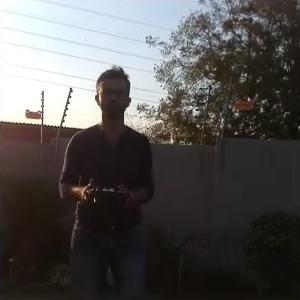follow: (53, 60, 160, 298)
